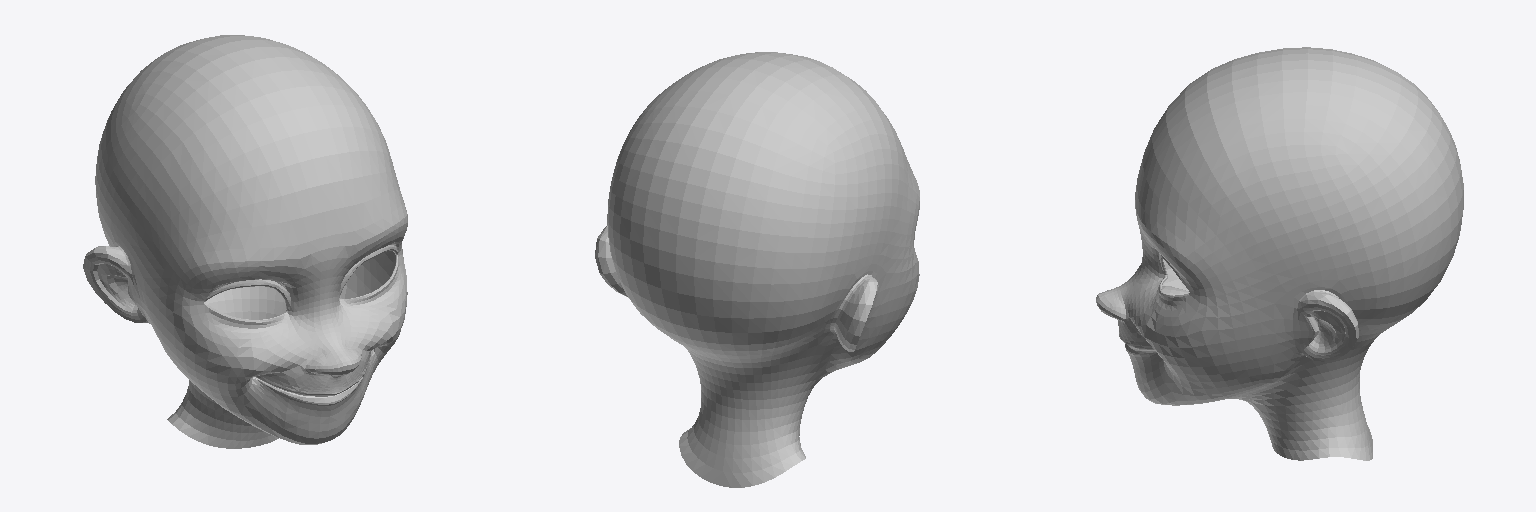
File: pos4.obj
3 renders of one model, left to right at view 1: azimuth 30°, elevation 25°; view 2: azimuth 150°, elevation 25°; view 3: azimuth 270°, elevation 25°, orthographic.
Visible parts, largest first — view 1: Mesh; view 2: Mesh; view 3: Mesh.
Part boxes in pixels (x1,y1,x2,y2): Mesh: (83,35,407,448); Mesh: (595,52,919,487); Mesh: (1096,47,1463,460).
Size of the model in its own units: 23.75 by 32.31 by 27.53.